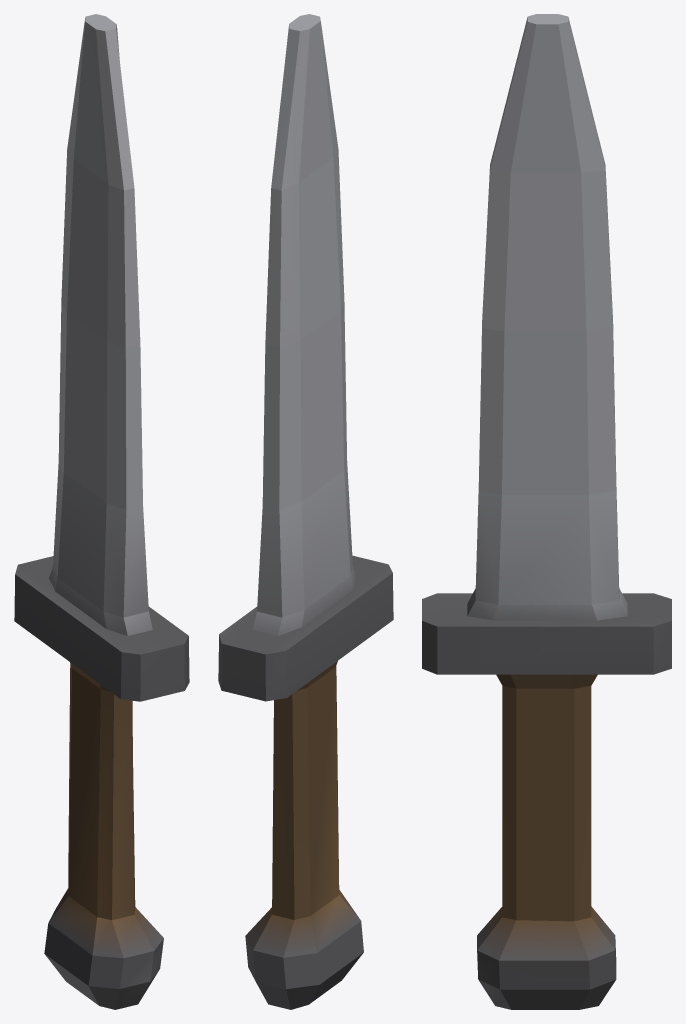
The model's file is adaga.fbx.
3 views of the same model, side by side, from view 1: azimuth 30°, elevation 25°; view 2: azimuth 150°, elevation 25°; view 3: azimuth 270°, elevation 25° (orthographic).
Visible parts, largest first — view 1: Cylinder; view 2: Cylinder; view 3: Cylinder.
Boxes of the visible parts, box(x1,y1,x2,y2) form: Cylinder: box(14, 14, 189, 1009); Cylinder: box(218, 14, 393, 1009); Cylinder: box(422, 14, 671, 1009).
Size of the model in its own units: 30.87 by 380 by 87.82.
